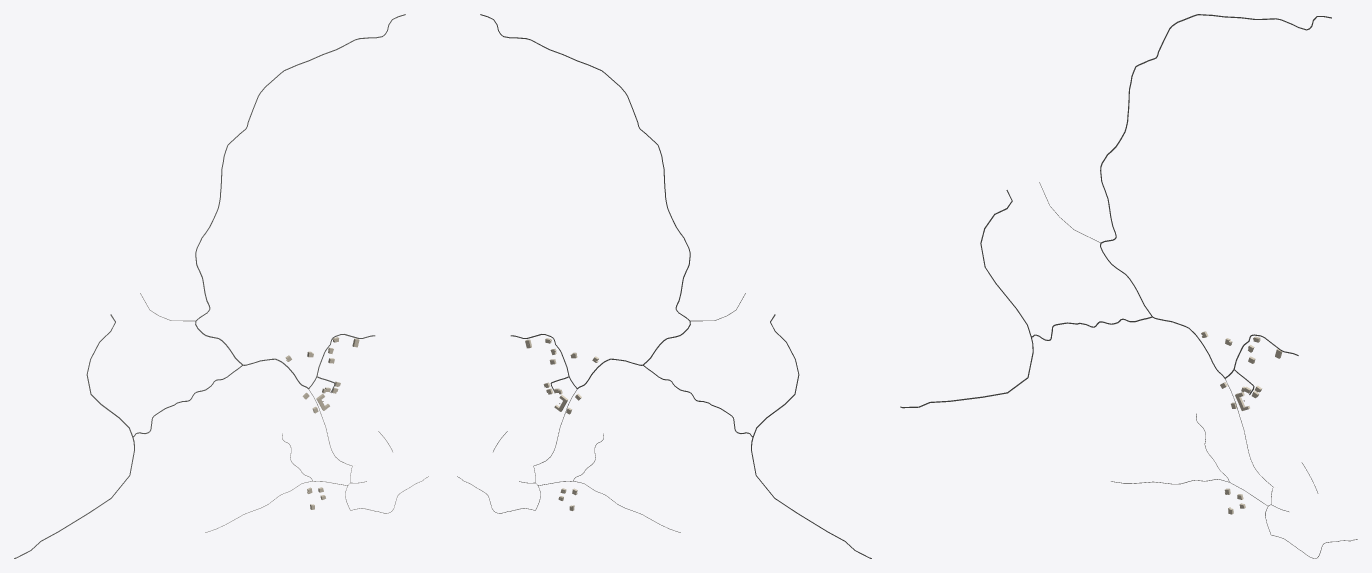
Rendered from historic-palestine-10_30_3519_3247.glb.
3 views of the same model, side by side, from view 1: azimuth 30°, elevation 25°; view 2: azimuth 150°, elevation 25°; view 3: azimuth 330°, elevation 25° (orthographic). The views are drawn at different scales.
Parts seen in each view (by area): view 1: Road .002, Road .007; view 2: Road .002, Road .007; view 3: Road .002, Road .007.
Part boxes in pixels (left/top/right/bottom): Road .002: left=195, top=14, right=405, bottom=364; Road .007: left=14, top=314, right=134, bottom=558; Road .002: left=480, top=14, right=690, bottom=365; Road .007: left=751, top=314, right=871, bottom=558; Road .002: left=1100, top=14, right=1331, bottom=316; Road .007: left=900, top=190, right=1033, bottom=408.
Size of the model in its own units: 1290 by 1471 by 8.7.
